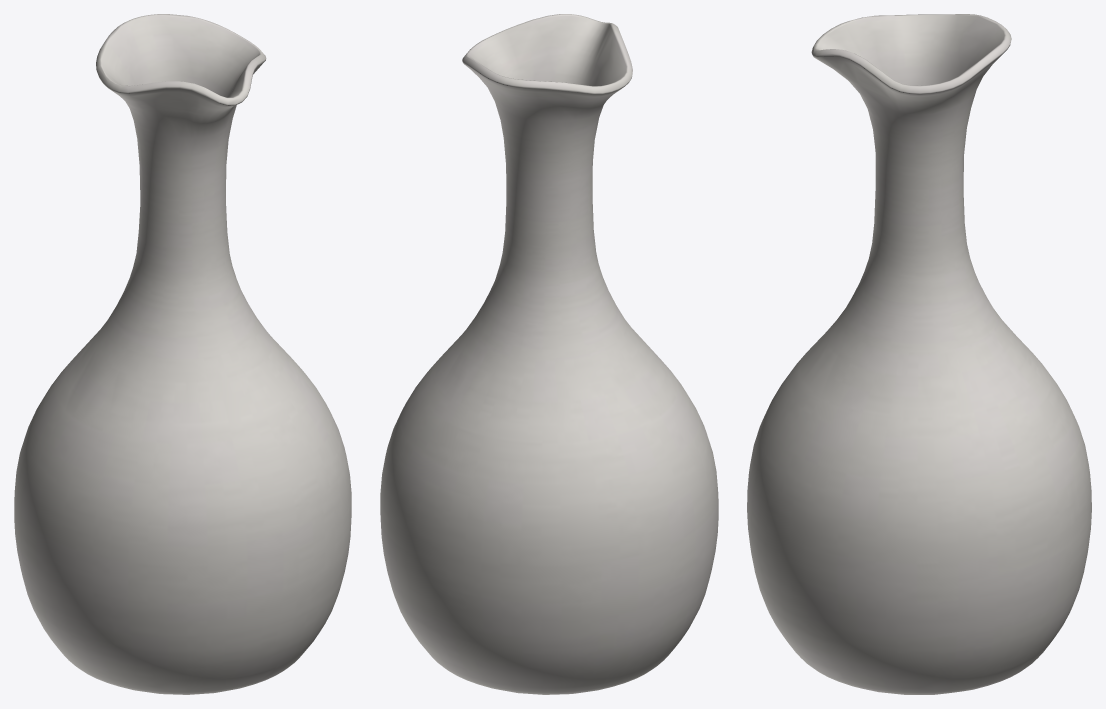
Rendered from ceramic_vase_01.glb.
3 views of the same model, side by side, from view 1: azimuth 30°, elevation 25°; view 2: azimuth 150°, elevation 25°; view 3: azimuth 270°, elevation 25° (orthographic). The views are drawn at different scales.
Visible parts, largest first — view 1: ceramic_vase_01; view 2: ceramic_vase_01; view 3: ceramic_vase_01.
Part boxes in pixels (bbox=[...]): ceramic_vase_01: bbox=[14, 14, 351, 694]; ceramic_vase_01: bbox=[380, 14, 718, 694]; ceramic_vase_01: bbox=[747, 14, 1091, 694].
Bounding box in the file's own units: 0.2036 × 0.4003 × 0.2036.
Materials: 1 (1 with a texture image).
